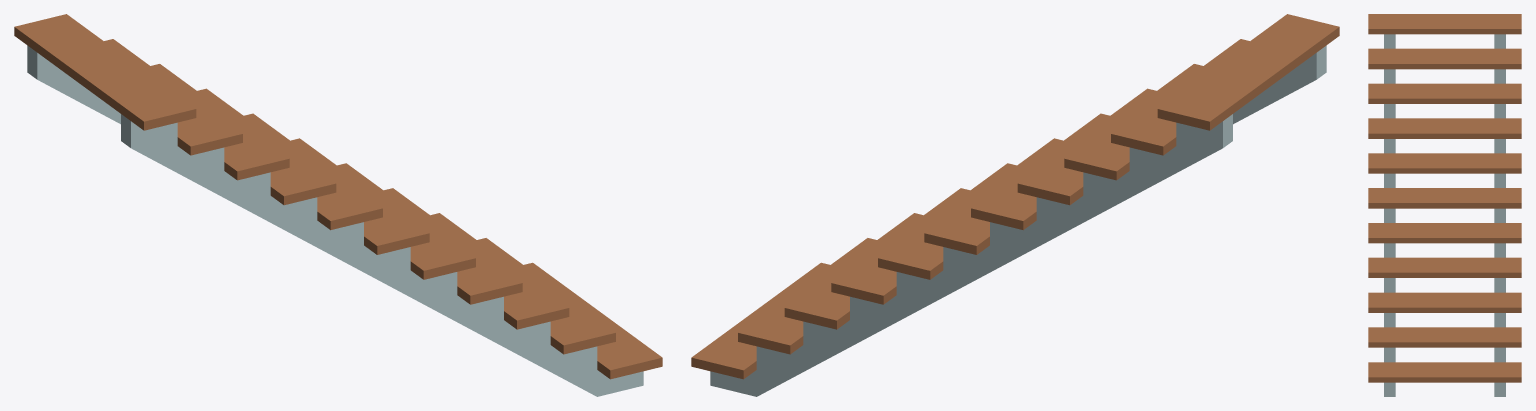
The model's file is stairsOpen.fbx.
The picture shows the model from 3 angles, left to right: view 1: azimuth 30°, elevation 25°; view 2: azimuth 150°, elevation 25°; view 3: azimuth 270°, elevation 25°; orthographic projection. The views are drawn at different scales.
Visible parts, largest first — view 1: stairsOpen, Group (×2); view 2: stairsOpen, Group (×2); view 3: stairsOpen, Group (×2).
Part boxes in pixels (x1,y1,x2,y2): stairsOpen: (14,14,662,379); Group (×2): (27,45,643,396); stairsOpen: (691,14,1339,379); Group (×2): (710,45,1326,396); stairsOpen: (1368,14,1521,382); Group (×2): (1384,34,1505,396).
Size of the model in its own units: 18.23 by 13.4 by 7.9.
